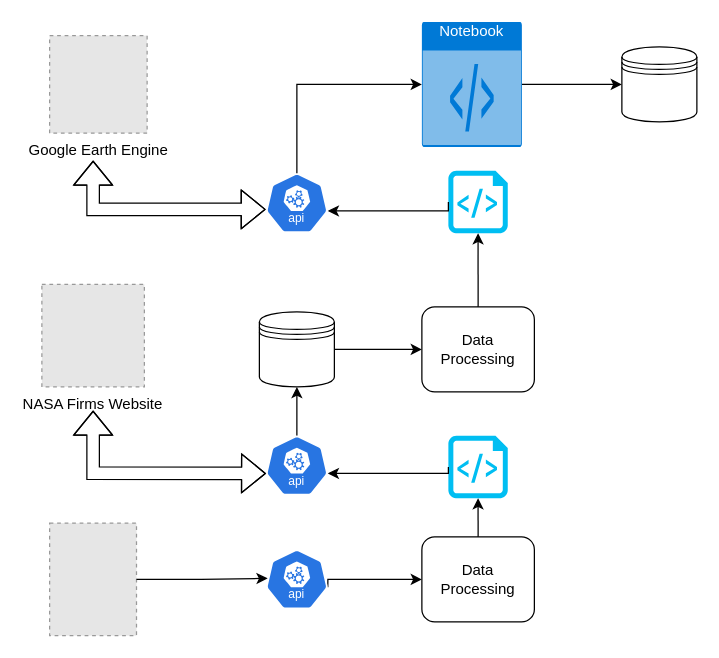
Some shapes in this 719 by 658 pixel diagram are drawn without their labels. Grey dashed boxes stand in for pictures. Here are the shapes that lost their labels. From the top down, the centre of each, then its label:
At point 659,84: "ROI Database".
At point 296,349: "Database".
